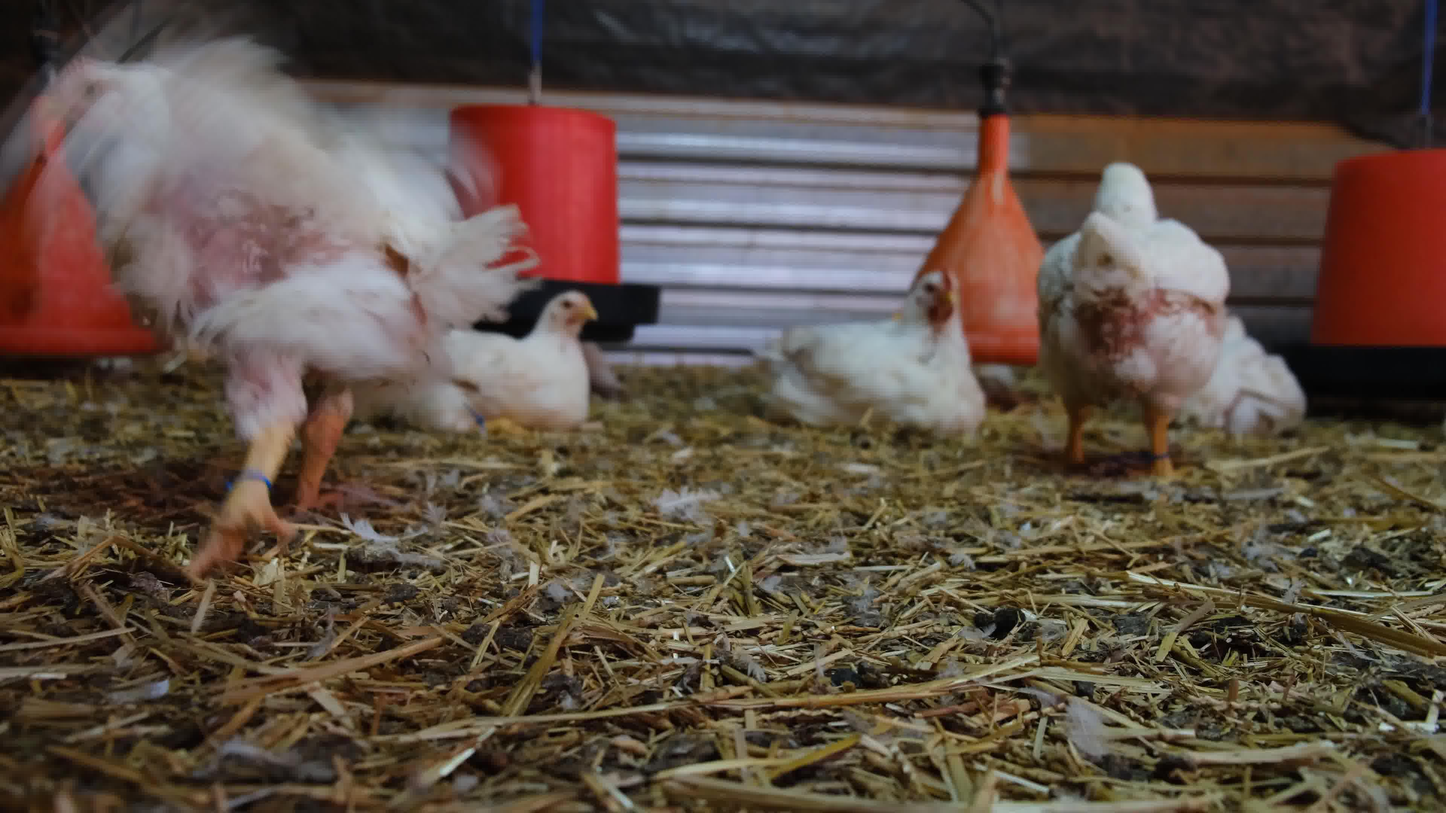AbNormal: (1017, 151, 1241, 491), (783, 269, 996, 455), (442, 292, 621, 446), (1192, 307, 1331, 452)
Normal: (0, 30, 490, 612)
